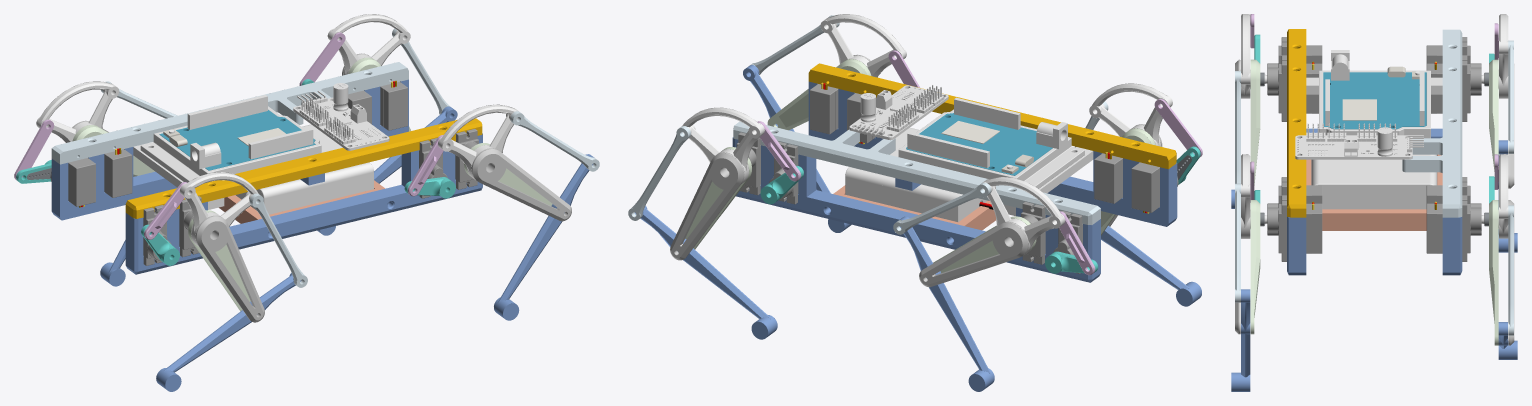
The model's file is quadruped-robot.glb.
3 renders of one model, left to right at view 1: azimuth 30°, elevation 25°; view 2: azimuth 150°, elevation 25°; view 3: azimuth 270°, elevation 25°, orthographic. The views are drawn at different scales.
Parts seen in each view (by area): view 1: Outside supports, Hip rotator (×4), Motor (×7), Part 2, Femur-upper (×2), Part 5, Tibia left (×2), Part 7, mesh301_mesh, Connector (×4), mesh3816_mesh, motor-rotating link (×4) (+10 smaller); view 2: Hip rotator (×4), Motor (×8), Part 7, Part 5, Femur-upper (×2), Part 2, Tibia right (×2), Outside supports, mesh301_mesh, Femur-lower (×4), mesh3816_mesh, motor-rotating link (×4) (+11 smaller); view 3: Motor (×8), mesh301_mesh, Part 5, mesh3816_mesh, Femur-lower (×4), Part 2, Hip rotator (×4), Connector (×4), Part 6, PCA9685 v18 (×2), Base, Tibia left (+8 smaller).
Boxes of the visible parts, x1=… form: Outside supports: x1=125, y1=133, x2=482, y2=274; Hip rotator (×4): x1=36, y1=14, x2=518, y2=246; Motor (×7): x1=50, y1=81, x2=478, y2=265; Part 2: x1=125, y1=118, x2=482, y2=218; Femur-upper (×2): x1=195, y1=148, x2=571, y2=322; Part 5: x1=51, y1=62, x2=408, y2=164; Tibia left (×2): x1=156, y1=154, x2=594, y2=391; Part 7: x1=51, y1=79, x2=408, y2=220; mesh301_mesh: x1=236, y1=124, x2=373, y2=214; Connector (×4): x1=101, y1=28, x2=599, y2=287; mesh3816_mesh: x1=159, y1=110, x2=315, y2=170; motor-rotating link (×4): x1=14, y1=32, x2=443, y2=239; Hip rotator (×4): x1=682, y1=14, x2=1172, y2=253; Motor (×8): x1=736, y1=84, x2=1178, y2=273; Part 7: x1=732, y1=137, x2=1100, y2=282; Part 5: x1=733, y1=121, x2=1100, y2=224; Femur-upper (×2): x1=670, y1=152, x2=1028, y2=287; Part 2: x1=808, y1=63, x2=1176, y2=169; Tibia right (×2): x1=634, y1=205, x2=994, y2=391; Outside supports: x1=808, y1=81, x2=1177, y2=226; mesh301_mesh: x1=845, y1=127, x2=987, y2=222; Femur-lower (×4): x1=685, y1=59, x2=1155, y2=272; mesh3816_mesh: x1=906, y1=113, x2=1052, y2=175; motor-rotating link (×4): x1=757, y1=50, x2=1202, y2=275; Motor (×8): x1=1267, y1=37, x2=1481, y2=261; mesh301_mesh: x1=1311, y1=154, x2=1437, y2=209; Part 5: x1=1402, y1=29, x2=1462, y2=217; mesh3816_mesh: x1=1323, y1=72, x2=1426, y2=129; Femur-lower (×4): x1=1250, y1=59, x2=1498, y2=345; Part 2: x1=1287, y1=29, x2=1306, y2=217; Hip rotator (×4): x1=1241, y1=14, x2=1508, y2=238; Connector (×4): x1=1235, y1=40, x2=1513, y2=335; Part 6: x1=1306, y1=154, x2=1442, y2=230; PCA9685 v18 (×2): x1=1295, y1=127, x2=1412, y2=159; Base: x1=1319, y1=70, x2=1430, y2=138; Tibia left: x1=1231, y1=289, x2=1250, y2=391.
Size of the model in its own units: 0.2831 by 0.1253 by 0.147.
